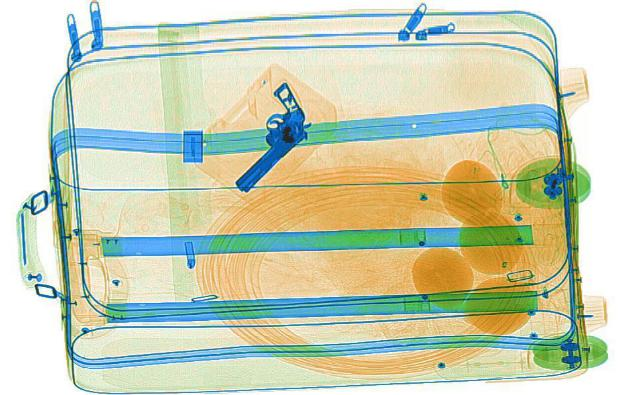Gun: (192, 81, 340, 191)
